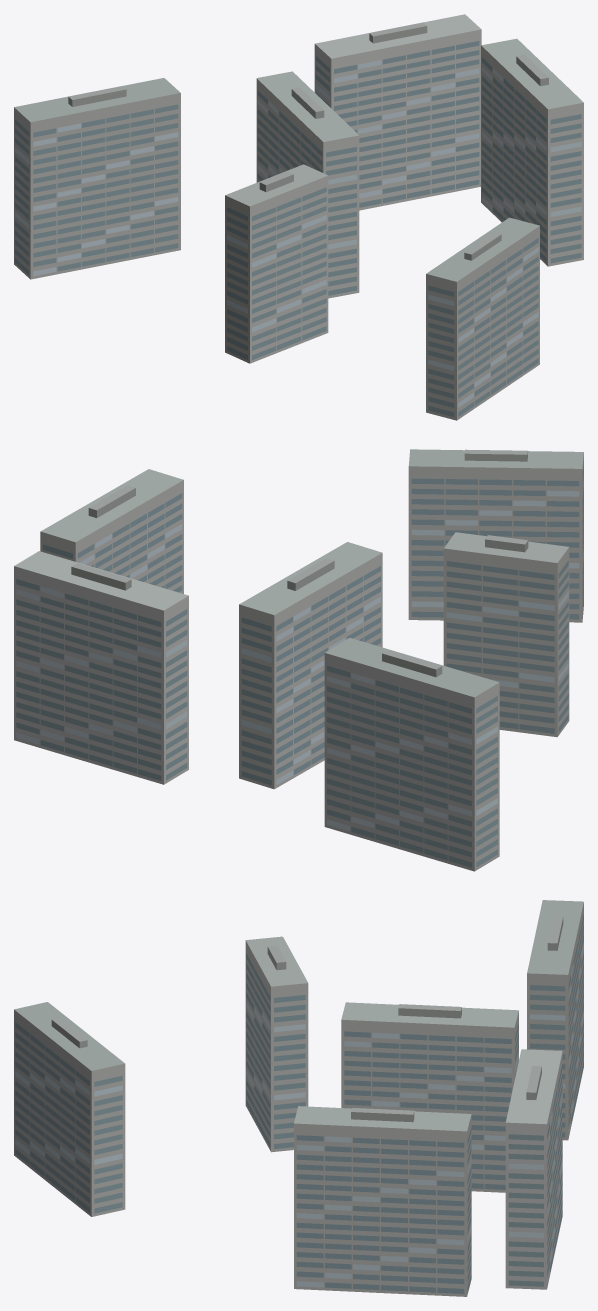
The model's file is apt-a15678102.glb.
3 renders of one model, top to bottom at view 1: azimuth 30°, elevation 25°; view 2: azimuth 150°, elevation 25°; view 3: azimuth 270°, elevation 25°, orthographic. The views are drawn at different scales.
Parts seen in each view (by area): view 1: apt-a15678102; view 2: apt-a15678102; view 3: apt-a15678102.
Boxes of the visible parts, x1,y1,x2,y2 form: apt-a15678102: (14,14,583,420); apt-a15678102: (14,449,583,871); apt-a15678102: (14,900,583,1296).
Size of the model in its own units: 155 by 54.18 by 162.
